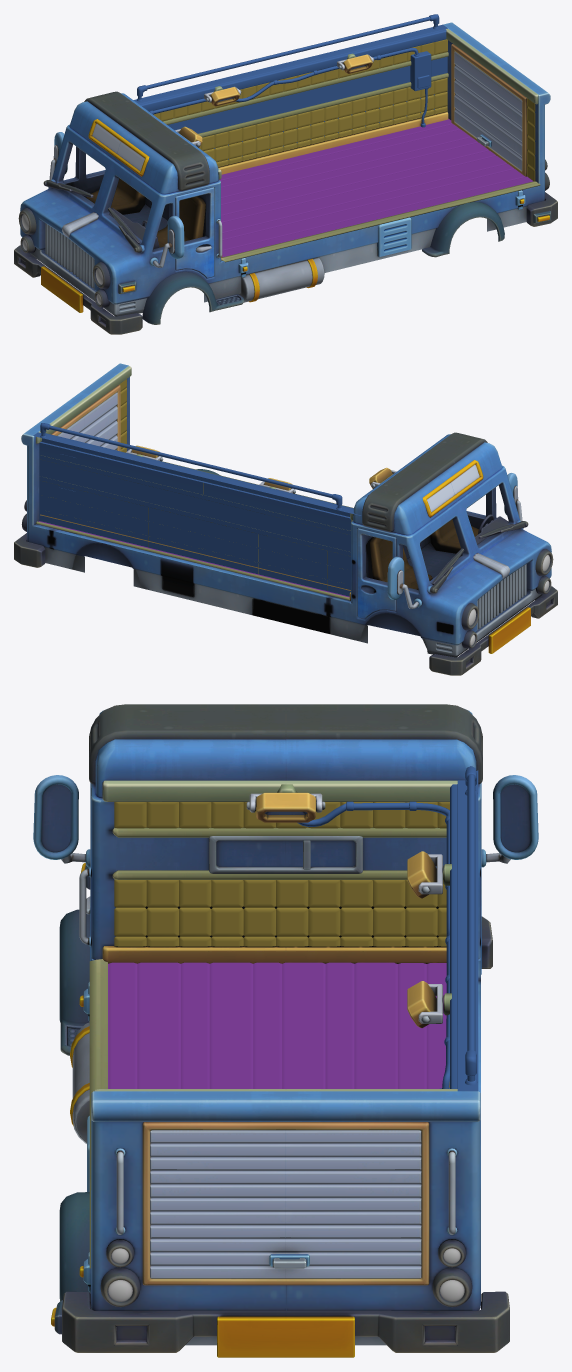
The model's file is m_lorry_van_back_01.fbx.
The picture shows the model from 3 angles, top to bottom: view 1: azimuth 30°, elevation 25°; view 2: azimuth 150°, elevation 25°; view 3: azimuth 270°, elevation 25°; orthographic projection. The views are drawn at different scales.
Visible parts, largest first — view 1: m_lorry_van_back_01; view 2: m_lorry_van_back_01; view 3: m_lorry_van_back_01.
Part boxes in pixels (bbox=[...]): m_lorry_van_back_01: bbox=[14, 14, 557, 334]; m_lorry_van_back_01: bbox=[14, 363, 557, 675]; m_lorry_van_back_01: bbox=[33, 704, 538, 1357].
Size of the model in its own units: 15.48 by 5.18 by 7.59.
Materials: 4 (1 with a texture image).
